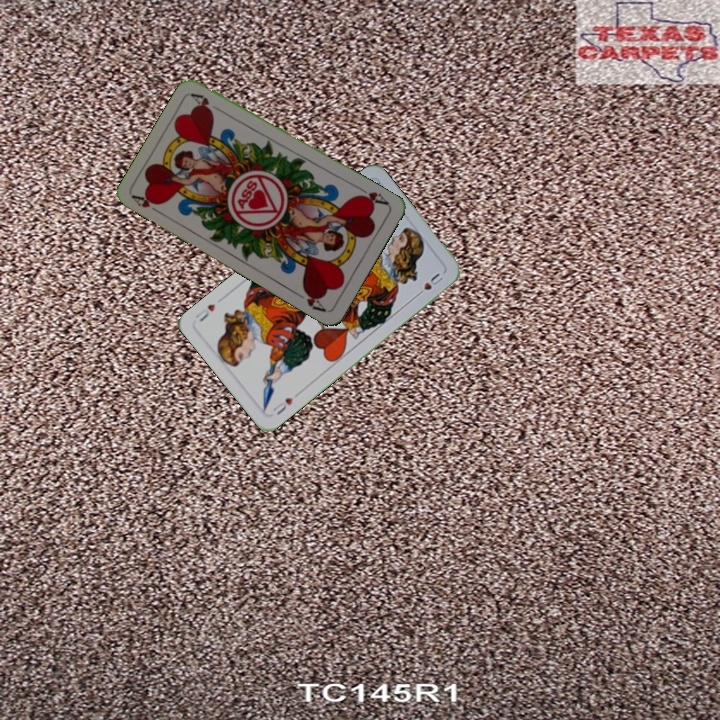HA: (129, 191, 166, 218), (353, 183, 392, 208)
HU: (269, 393, 296, 418)
